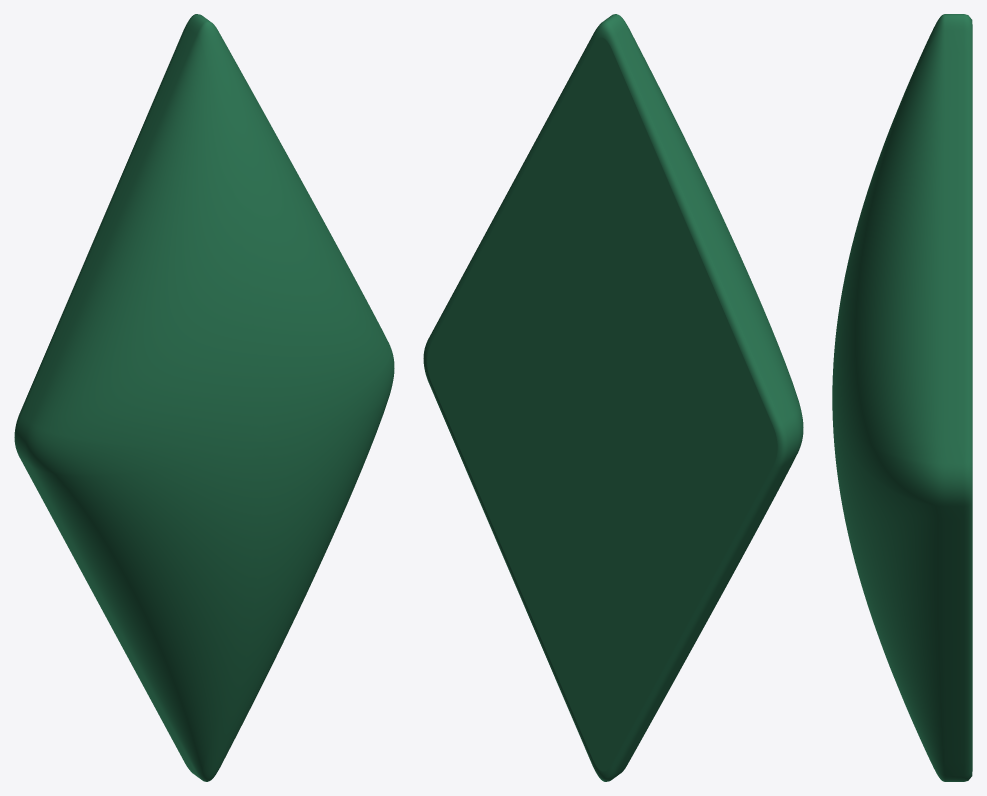
File: rhombus.glb
3 renders of one model, left to right at view 1: azimuth 30°, elevation 25°; view 2: azimuth 150°, elevation 25°; view 3: azimuth 270°, elevation 25°, orthographic.
Visible parts, largest first — view 1: Rhombus Cabochon 24x12x4mm; view 2: Rhombus Cabochon 24x12x4mm; view 3: Rhombus Cabochon 24x12x4mm.
Boxes of the visible parts, left/top/right/bottom form: Rhombus Cabochon 24x12x4mm: left=14, top=14, right=394, bottom=781; Rhombus Cabochon 24x12x4mm: left=423, top=14, right=803, bottom=781; Rhombus Cabochon 24x12x4mm: left=832, top=14, right=972, bottom=781.
Bounding box in the file's own units: 0.012 × 0.024 × 0.00398.
